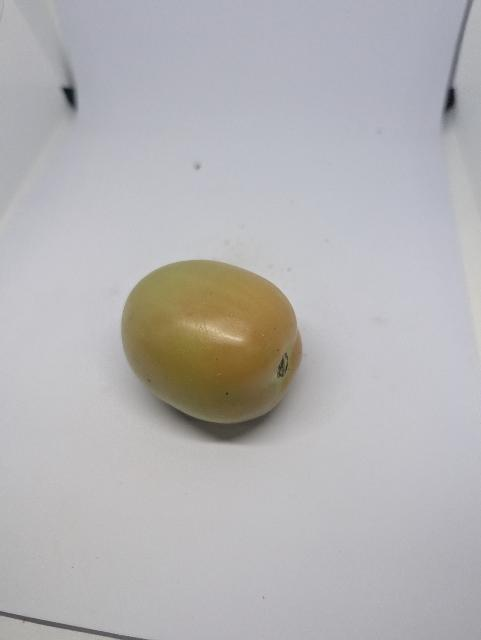breaker: (122, 260, 302, 423)
